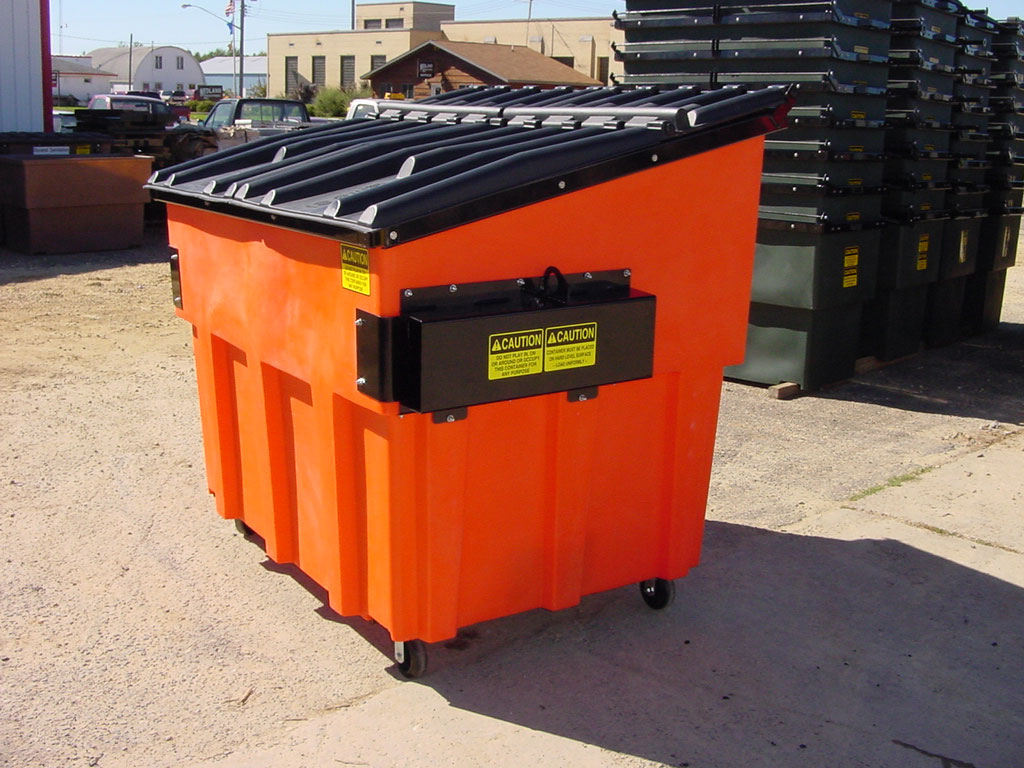Dumpster: (142, 69, 816, 675)
